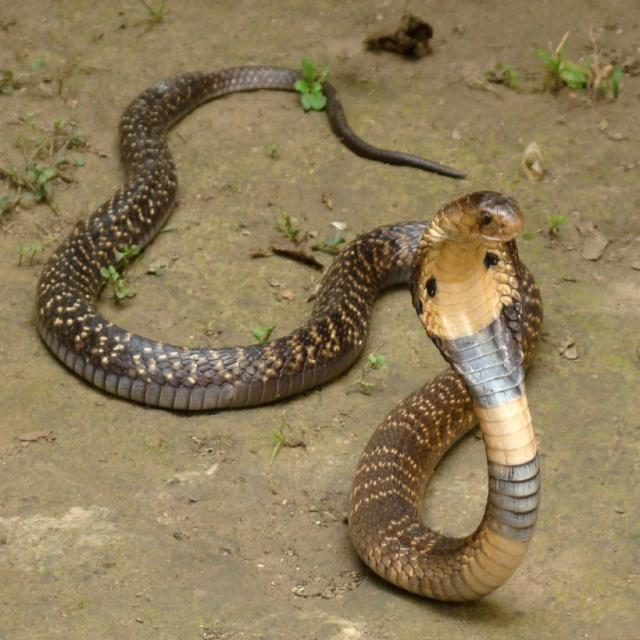Snake: (33, 59, 544, 604)
